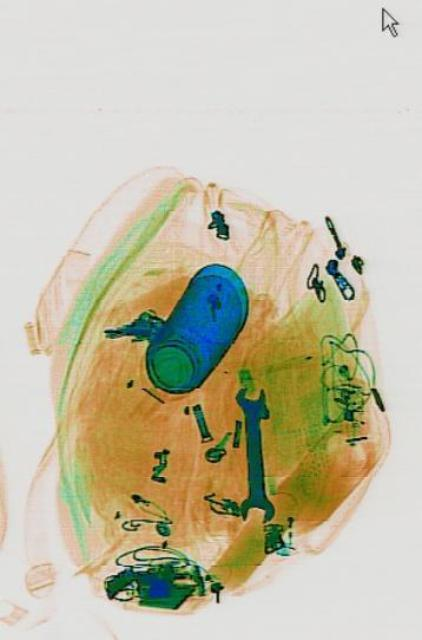Wrench: (231, 383, 272, 523)
